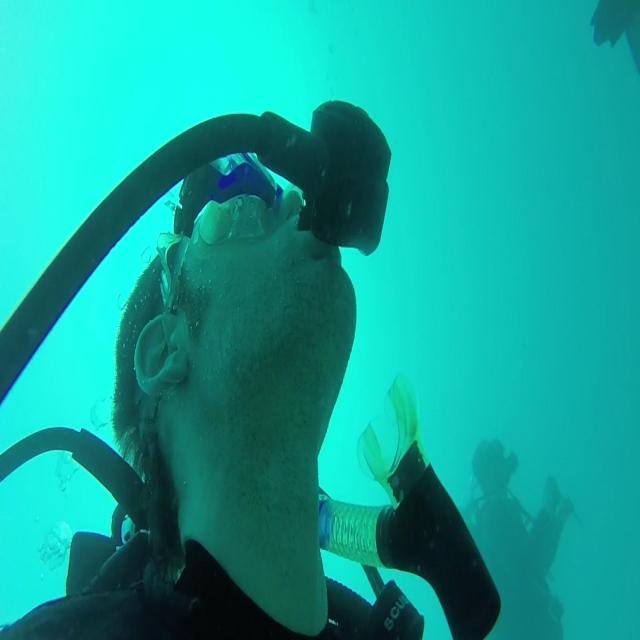human: (1, 99, 501, 638), (463, 436, 576, 638)
